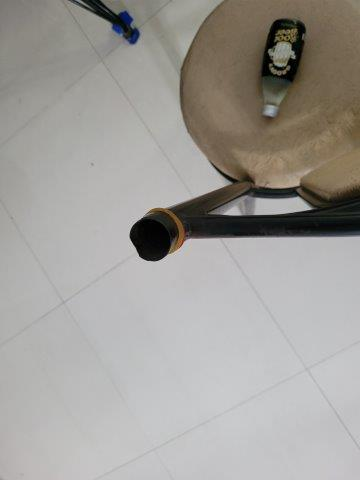botolkaca: (260, 19, 305, 118)
